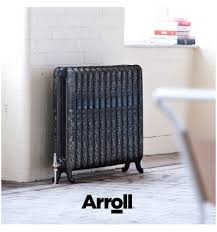Radiator: (50, 63, 145, 185)
